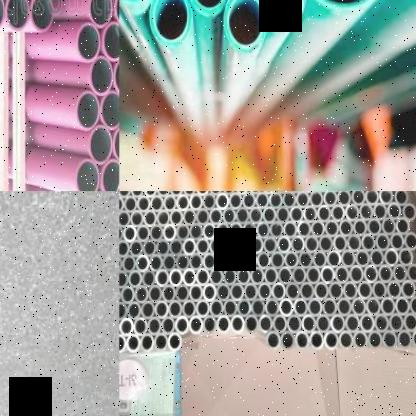pipe: (223, 0, 267, 54), (149, 0, 192, 48), (262, 0, 306, 25), (77, 24, 100, 62), (77, 92, 99, 130), (90, 56, 112, 94), (90, 126, 112, 162), (188, 0, 231, 16), (32, 0, 54, 30), (76, 161, 98, 191), (7, 0, 29, 29), (102, 92, 119, 129), (90, 0, 112, 26), (104, 23, 119, 60), (102, 160, 119, 191), (146, 316, 162, 337), (315, 313, 331, 334), (330, 313, 346, 334), (360, 313, 376, 334), (336, 297, 352, 318), (351, 296, 367, 317), (328, 280, 344, 301), (332, 233, 348, 254), (266, 330, 282, 351), (374, 312, 389, 334), (318, 235, 335, 254), (160, 316, 176, 336), (174, 315, 190, 335), (188, 315, 204, 335), (216, 314, 232, 334), (286, 314, 302, 334), (272, 314, 288, 334), (301, 314, 317, 334), (140, 300, 156, 320), (236, 298, 252, 318), (250, 298, 266, 318), (264, 298, 280, 318), (278, 298, 294, 318), (380, 296, 396, 316), (342, 280, 358, 300), (386, 280, 402, 300), (166, 332, 182, 352), (294, 330, 310, 350), (309, 330, 325, 350), (338, 330, 354, 350), (345, 313, 360, 334), (389, 312, 404, 333), (322, 297, 337, 318), (372, 280, 387, 301), (334, 265, 350, 284), (340, 249, 356, 268), (324, 219, 340, 238), (352, 218, 368, 237), (142, 209, 158, 228), (316, 204, 332, 223), (330, 204, 346, 223), (358, 202, 374, 221), (382, 330, 397, 350), (397, 330, 412, 350), (133, 317, 148, 337), (202, 314, 217, 334), (230, 314, 245, 334), (244, 314, 259, 334), (258, 314, 273, 334), (127, 301, 142, 321), (168, 300, 183, 320), (195, 299, 210, 319), (209, 298, 224, 318), (182, 298, 197, 318), (223, 298, 238, 318), (293, 297, 308, 317), (395, 296, 410, 316), (134, 284, 149, 304), (202, 282, 217, 302), (314, 281, 329, 301), (401, 280, 416, 300), (236, 266, 251, 286), (306, 265, 321, 285), (320, 265, 335, 285), (349, 264, 364, 284), (378, 264, 393, 284), (398, 247, 413, 267), (140, 333, 155, 353), (280, 330, 295, 350), (353, 330, 368, 350), (366, 296, 380, 317), (154, 332, 168, 353), (174, 284, 190, 302), (242, 252, 258, 270), (276, 236, 292, 254), (346, 234, 362, 252), (310, 220, 326, 238), (344, 204, 360, 222), (372, 202, 388, 220), (216, 283, 231, 302), (257, 282, 272, 301), (271, 282, 286, 301), (285, 282, 300, 301), (209, 267, 224, 286), (292, 266, 307, 285), (392, 264, 407, 283), (270, 251, 285, 270), (284, 250, 299, 269), (298, 250, 313, 269), (355, 249, 370, 268), (384, 248, 399, 267), (290, 235, 305, 254), (304, 235, 319, 254), (375, 233, 390, 252), (242, 221, 257, 240), (283, 220, 298, 239), (339, 219, 354, 238), (381, 217, 396, 236), (289, 205, 304, 224), (401, 202, 416, 221), (308, 297, 322, 317), (148, 284, 162, 304), (162, 284, 176, 304), (189, 283, 203, 303), (230, 282, 244, 302), (300, 282, 314, 302), (358, 280, 372, 300), (155, 268, 169, 288), (250, 266, 264, 286), (364, 264, 378, 284), (122, 254, 136, 274), (209, 236, 223, 256), (150, 194, 164, 214), (126, 333, 140, 353), (324, 330, 338, 350), (368, 330, 382, 350), (120, 317, 133, 338), (294, 191, 310, 208), (121, 286, 136, 304), (312, 250, 327, 268), (326, 250, 341, 268), (249, 236, 264, 254), (361, 234, 376, 252), (387, 202, 402, 220), (244, 282, 258, 301), (128, 270, 142, 289), (142, 269, 156, 288), (264, 266, 278, 285), (278, 266, 292, 285), (216, 252, 230, 271), (257, 251, 271, 270), (370, 249, 384, 268), (129, 239, 143, 258), (236, 236, 250, 255), (390, 233, 404, 252), (123, 225, 137, 244), (136, 224, 150, 243), (189, 223, 203, 242), (216, 221, 230, 240), (229, 221, 243, 240), (256, 221, 270, 240), (368, 217, 382, 236), (396, 217, 410, 236), (156, 209, 170, 228), (222, 207, 236, 226), (249, 206, 263, 225), (262, 206, 276, 225), (202, 192, 216, 211), (403, 312, 416, 332), (155, 300, 168, 320), (169, 268, 182, 288), (143, 238, 156, 258), (223, 236, 236, 256), (190, 192, 203, 212), (182, 268, 196, 286), (189, 253, 203, 271), (202, 222, 216, 240), (297, 220, 311, 238), (209, 208, 223, 226), (276, 206, 290, 224), (163, 194, 177, 212), (242, 192, 256, 210), (268, 191, 282, 209), (223, 267, 236, 286), (136, 254, 149, 273), (176, 253, 189, 272), (203, 252, 216, 271), (230, 252, 243, 271), (156, 238, 169, 257), (196, 237, 209, 256), (403, 233, 416, 252), (163, 223, 176, 242), (176, 223, 189, 242), (270, 220, 283, 239), (131, 209, 144, 228), (170, 208, 183, 227), (304, 204, 317, 223), (176, 193, 189, 212), (216, 192, 229, 211), (256, 191, 269, 210), (350, 191, 366, 206), (282, 191, 296, 208), (309, 191, 323, 208), (196, 268, 209, 286), (149, 254, 162, 272), (163, 254, 176, 272), (170, 238, 183, 256), (183, 238, 196, 256), (264, 236, 277, 254), (150, 224, 163, 242), (183, 208, 196, 226), (196, 208, 209, 226), (236, 206, 249, 224), (124, 196, 137, 214), (137, 195, 150, 213), (229, 192, 242, 210), (323, 191, 337, 207), (336, 191, 350, 207), (119, 238, 130, 258), (364, 191, 378, 206), (378, 191, 393, 205), (119, 209, 130, 228), (394, 191, 407, 207), (406, 263, 416, 283), (114, 57, 119, 94), (114, 126, 119, 162), (119, 270, 128, 288), (119, 301, 127, 321), (408, 295, 416, 315), (119, 334, 126, 354), (130, 191, 143, 199), (156, 191, 170, 198), (119, 191, 131, 199), (412, 328, 416, 349), (144, 191, 156, 198), (120, 224, 124, 243), (120, 196, 124, 214), (170, 191, 184, 196), (183, 191, 196, 196), (196, 191, 209, 196), (235, 191, 250, 195), (209, 191, 222, 195), (222, 191, 235, 195)
